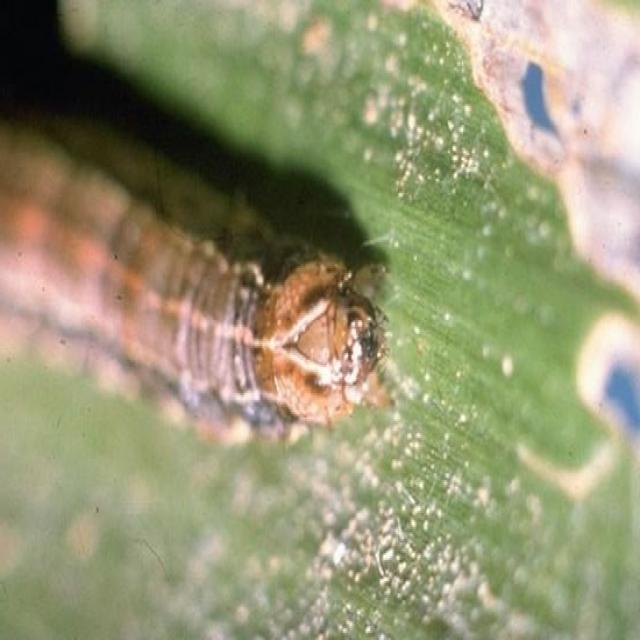army worm: (5, 117, 396, 459)
